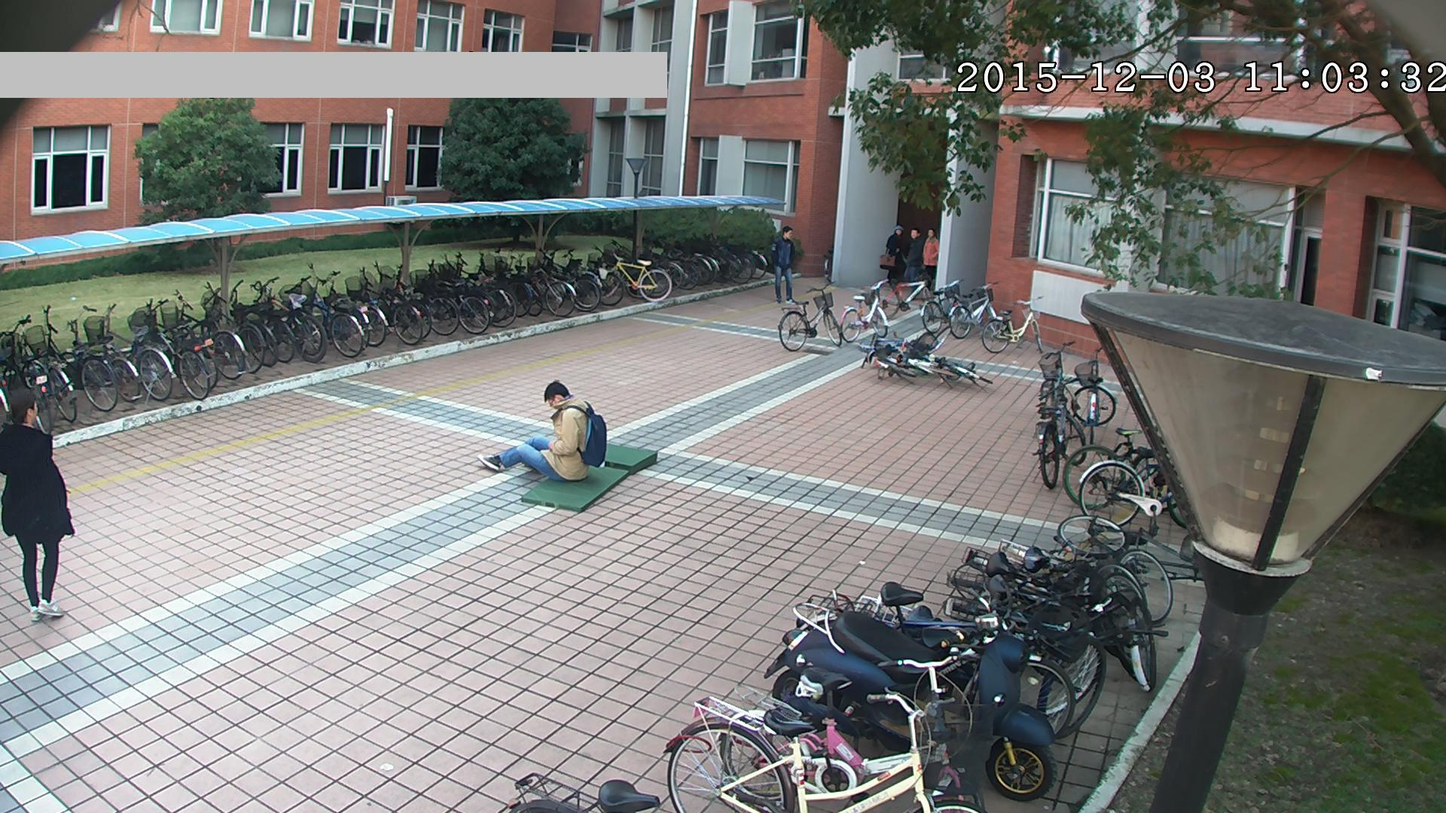person: (0, 382, 77, 629), (485, 376, 607, 488), (761, 219, 803, 307)
